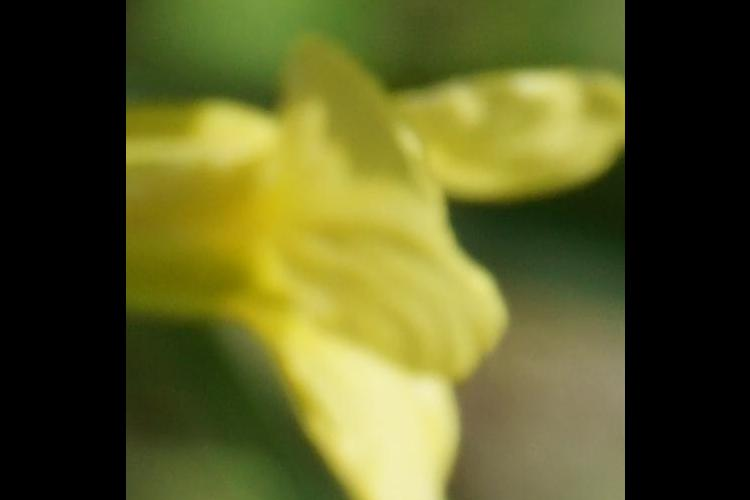yellow: (140, 35, 618, 500)
